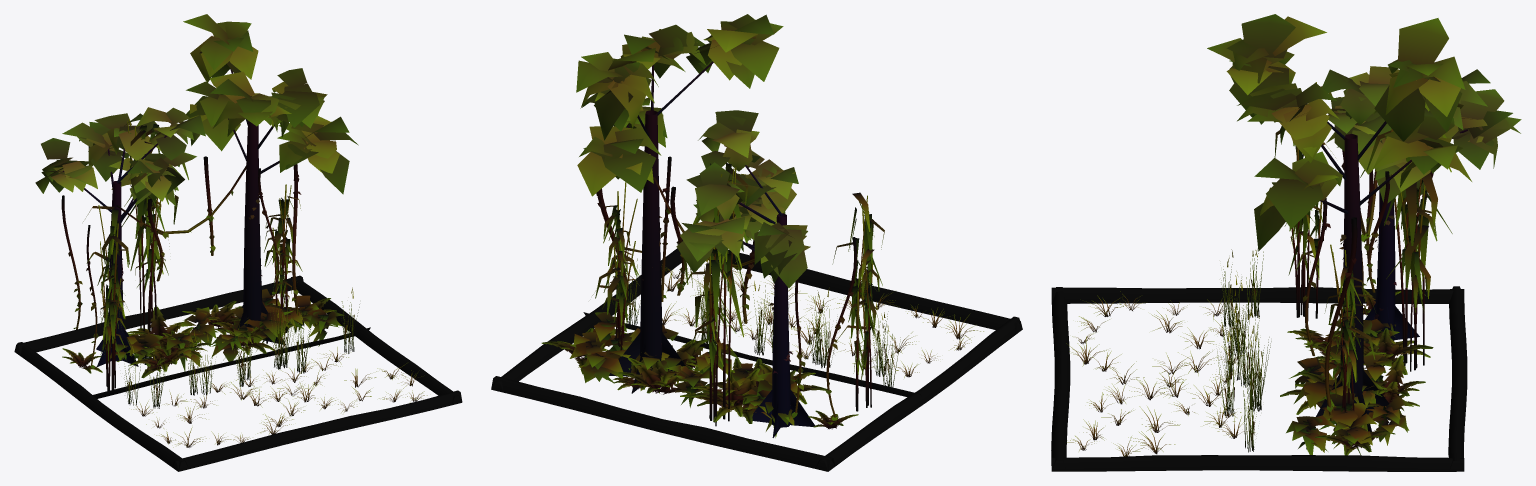
Rendered from patch_paddy_edge.glb.
The picture shows the model from 3 angles, left to right: view 1: azimuth 30°, elevation 25°; view 2: azimuth 150°, elevation 25°; view 3: azimuth 270°, elevation 25°; orthographic projection. The views are drawn at different scales.
Parts seen in each view (by area): view 1: patch_paddy_edge; view 2: patch_paddy_edge; view 3: patch_paddy_edge.
Part boxes in pixels (left/top/right/bottom): patch_paddy_edge: left=14, top=14, right=462, bottom=471; patch_paddy_edge: left=491, top=14, right=1022, bottom=471; patch_paddy_edge: left=1051, top=14, right=1521, bottom=471.
Bounding box in the file's own units: 12.11 × 12.56 × 13.69.
Materials: 1 (1 with a texture image).
